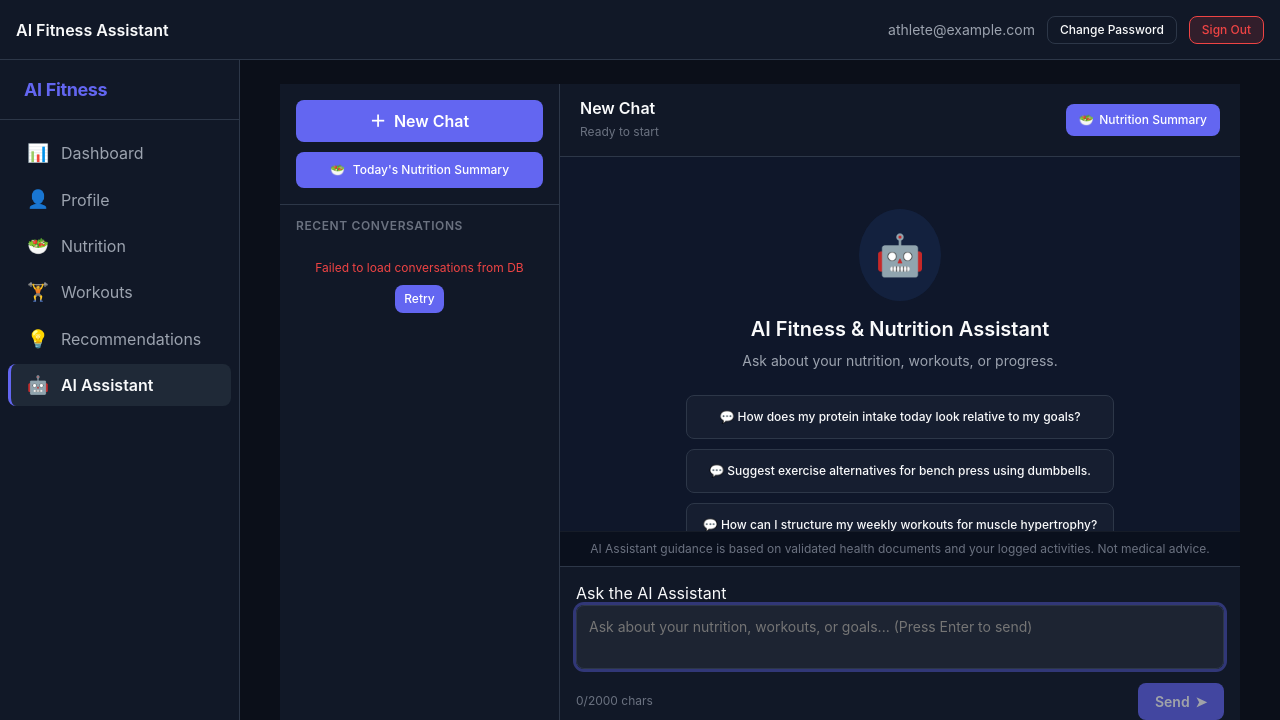
Test: Phase 8H — AI Assistant & RAG Tests › 4. conversation list error + retry renders error message and allows refetching
The width and height of the screenshot is (1280, 720).
Expected: the text "Failed to load conversations from DB" is shown, x1=300 y1=259 x2=539 y2=277
Click the button "Retry" at (420, 299), box x1=395 y1=285 x2=444 y2=313
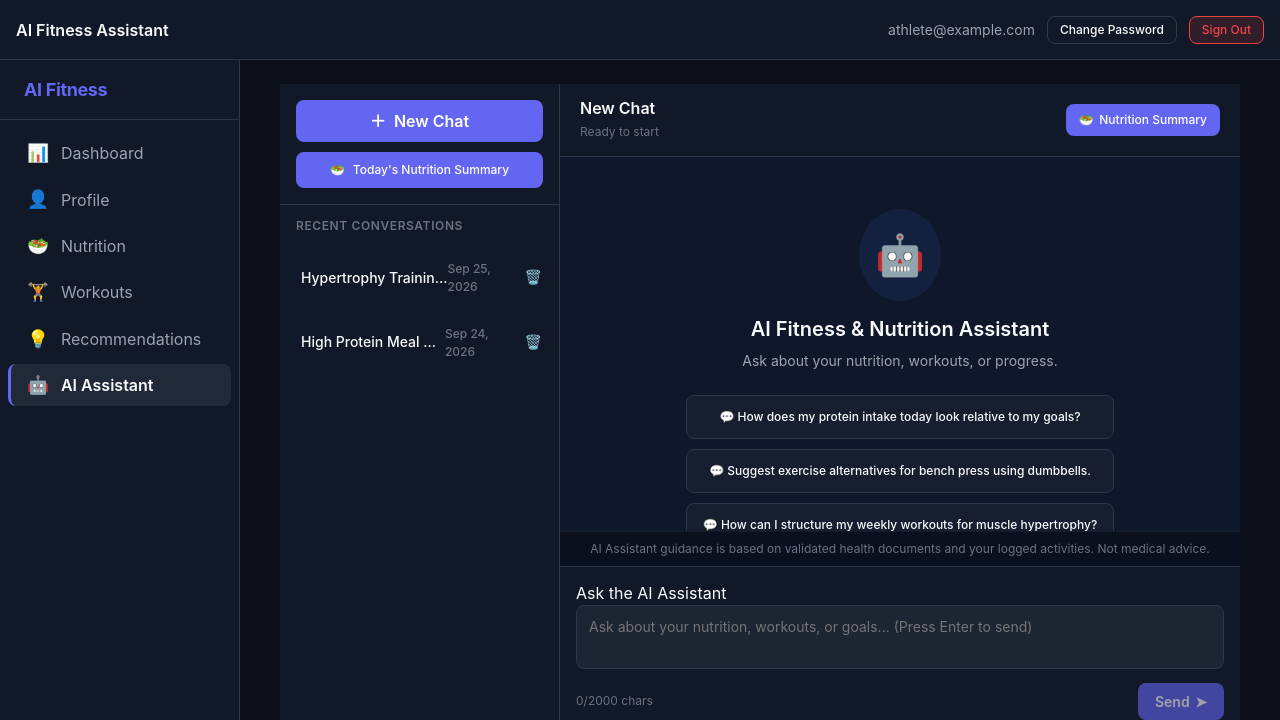
Expected: the text "Hypertrophy Training Routine" is shown, x1=301 y1=267 x2=448 y2=288
